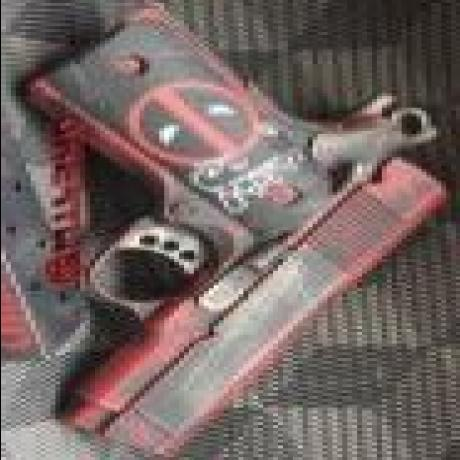weapon: (15, 0, 460, 457)
